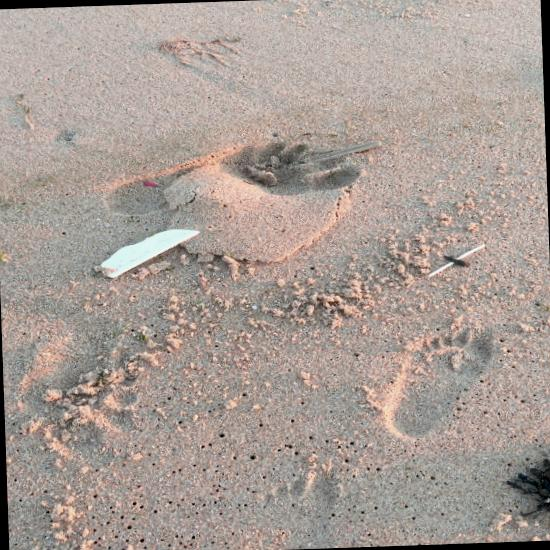Other plastic bottle: (101, 229, 200, 278), (456, 244, 485, 260), (428, 262, 454, 277), (143, 182, 157, 187)
